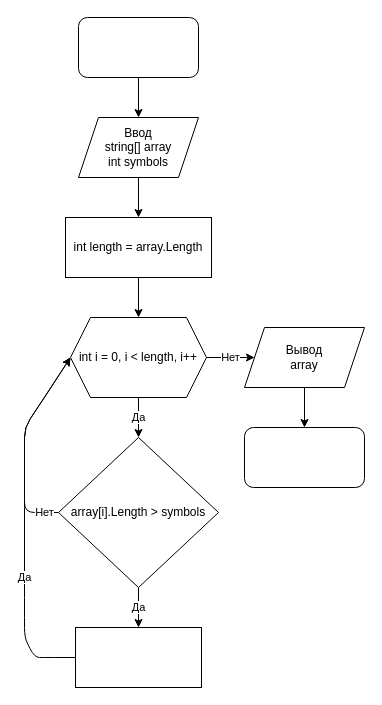
The diagram is 382 pixels wide and 705 high, and some of its shapes have lost their labels. The shapes that lost their labels are listed below. From the top down, each one's box as (x1, y1, x2, y2) in pixels, then its label:
(78, 16, 198, 78): Начало
(244, 426, 364, 488): Конец
(74, 626, 202, 688): array[i] = string.Empty
